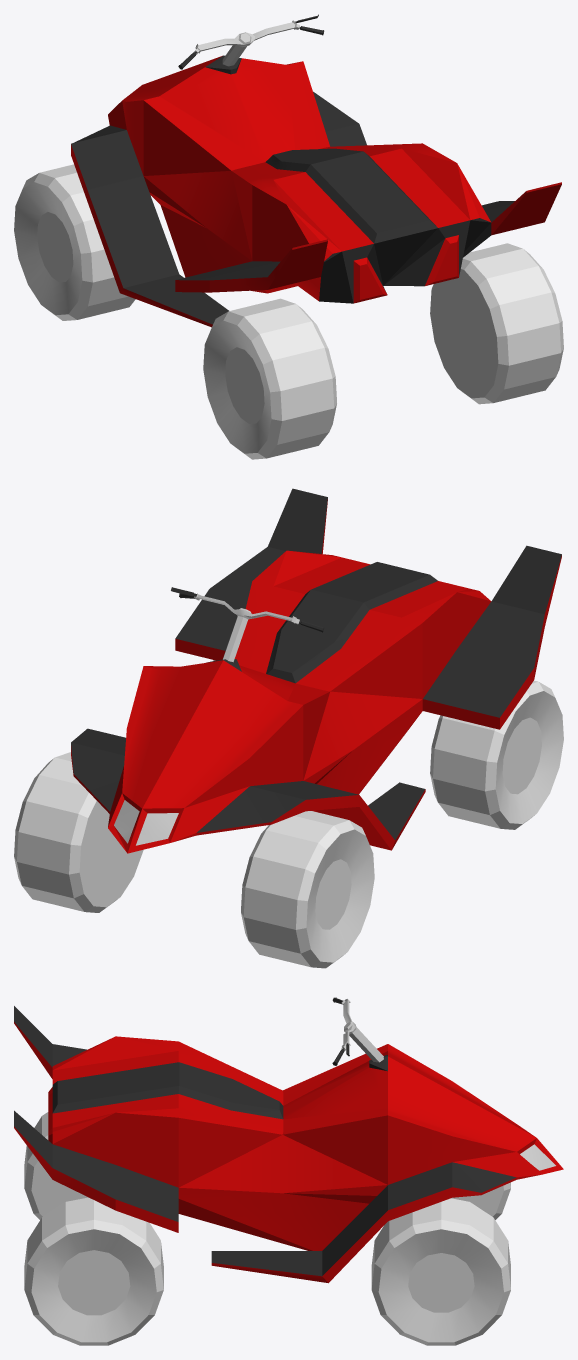
Rendered from ATV_v2.fbx.
3 renders of one model, top to bottom at view 1: azimuth 30°, elevation 25°; view 2: azimuth 150°, elevation 25°; view 3: azimuth 270°, elevation 25°, orthographic. The views are drawn at different scales.
Parts seen in each view (by area): view 1: Body, RL, RR, FL, Steering_Column; view 2: Body, FL, RL, FR, Steering_Column; view 3: Body, RR, FR, RL, FL, Steering_Column.
Part boxes in pixels (x1,y1,x2,y2): Body: (71, 55, 561, 327); RL: (203, 298, 336, 459); RR: (430, 243, 563, 404); FL: (14, 164, 135, 320); Steering_Column: (194, 20, 299, 66); Body: (71, 488, 561, 853); FL: (241, 811, 374, 968); RL: (430, 680, 563, 829); FR: (14, 752, 143, 912); Steering_Column: (194, 593, 299, 662); Body: (14, 1006, 563, 1283); RR: (24, 1197, 163, 1345); FR: (371, 1198, 510, 1345); RL: (24, 1112, 88, 1219); FL: (451, 1182, 510, 1219); Steering_Column: (341, 999, 383, 1062).
Size of the model in its own units: 253 by 214 by 405.
